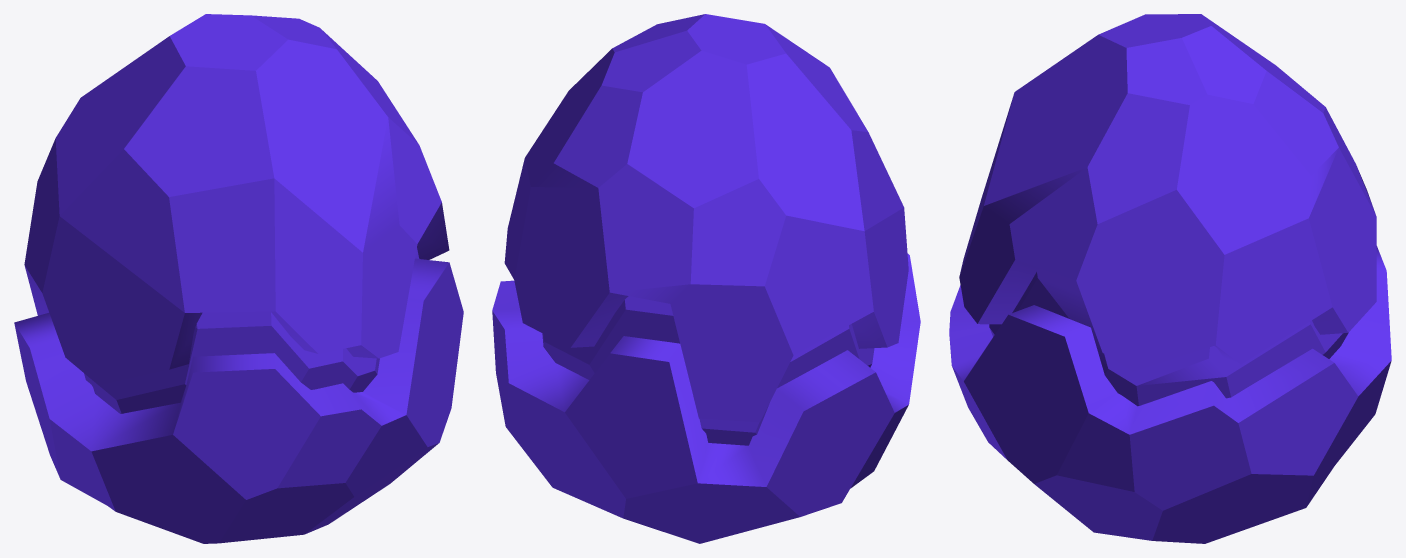
The model's file is egg_designer_9.obj.
3 views of the same model, side by side, from view 1: azimuth 30°, elevation 25°; view 2: azimuth 150°, elevation 25°; view 3: azimuth 270°, elevation 25° (orthographic). The views are drawn at different scales.
Parts seen in each view (by area): view 1: egg_designer_9; view 2: egg_designer_9; view 3: egg_designer_9.
Boxes of the visible parts, bbox=[...] form: egg_designer_9: bbox=[14, 14, 463, 543]; egg_designer_9: bbox=[492, 14, 920, 543]; egg_designer_9: bbox=[949, 14, 1391, 543].
Bounding box in the file's own units: 6.93 × 8.5 × 7.04.
